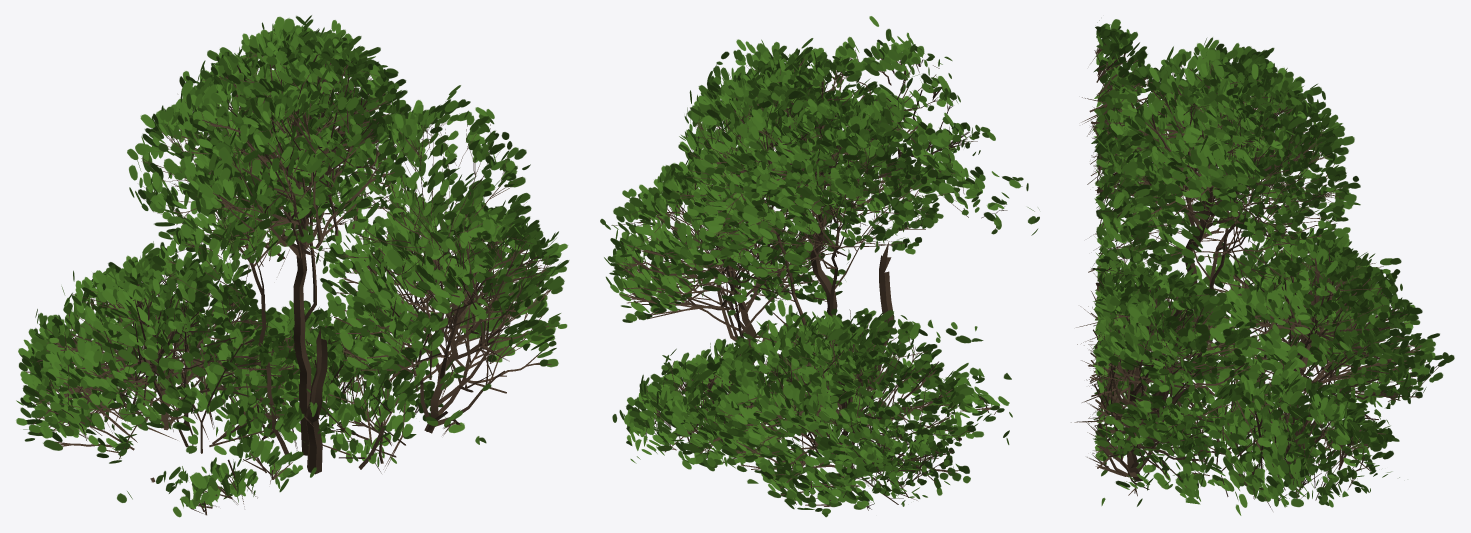
The picture shows the model from 3 angles, left to right: view 1: azimuth 30°, elevation 25°; view 2: azimuth 150°, elevation 25°; view 3: azimuth 270°, elevation 25°; orthographic projection. The views are drawn at different scales.
Parts seen in each view (by area): view 1: oak 01.001_trunk_Mat.001_0.449; view 2: oak 01.001_trunk_Mat.001_0.449; view 3: oak 01.001_trunk_Mat.001_0.449.
Part boxes in pixels (<box>): oak 01.001_trunk_Mat.001_0.449: <box>16,15,569,517</box>; oak 01.001_trunk_Mat.001_0.449: <box>600,16,1039,517</box>; oak 01.001_trunk_Mat.001_0.449: <box>1071,19,1454,515</box>.
Size of the model in its own units: 5.55 by 4.83 by 3.99.
2 materials, 1 textured.
